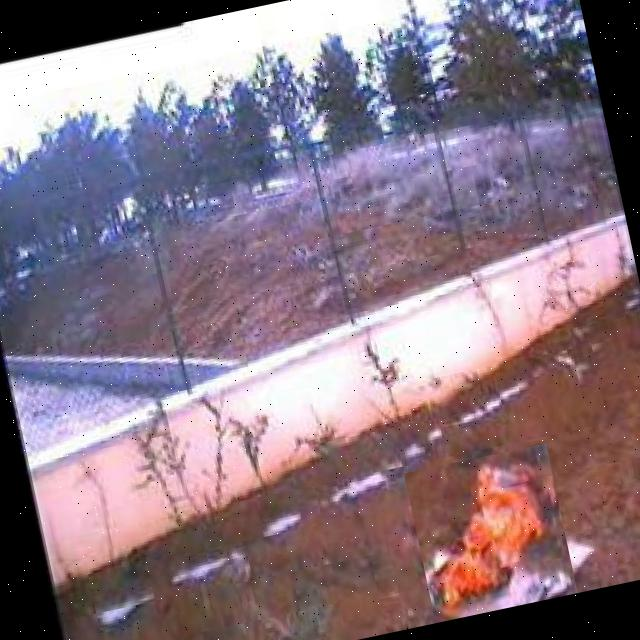fire: (403, 442, 578, 622)
